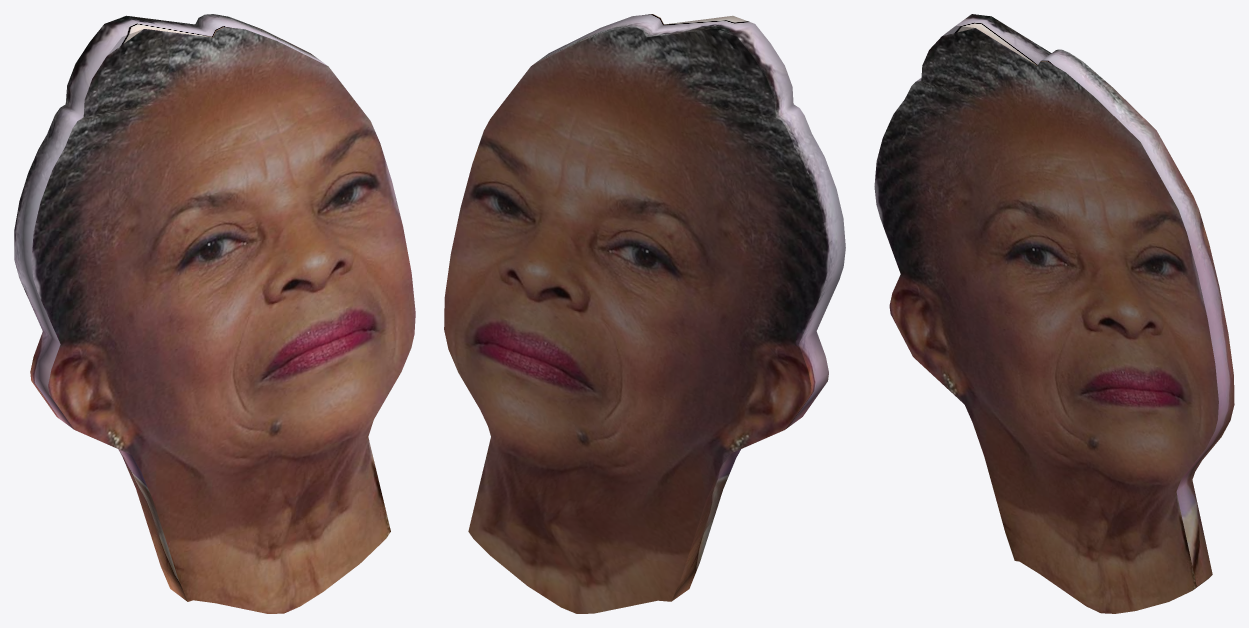
File: Christiane_Taubira.glb
3 renders of one model, left to right at view 1: azimuth 30°, elevation 25°; view 2: azimuth 150°, elevation 25°; view 3: azimuth 330°, elevation 25°, orthographic. The views are drawn at different scales.
Parts seen in each view (by area): view 1: Curve; view 2: Curve; view 3: Curve.
Boxes of the visible parts, box(x1,y1,x2,y2) form: Curve: box(14, 14, 415, 613); Curve: box(444, 14, 845, 613); Curve: box(874, 14, 1234, 613).
Size of the model in its own units: 0.6498 by 0.9999 by 0.0522.
1 material, 1 textured.
